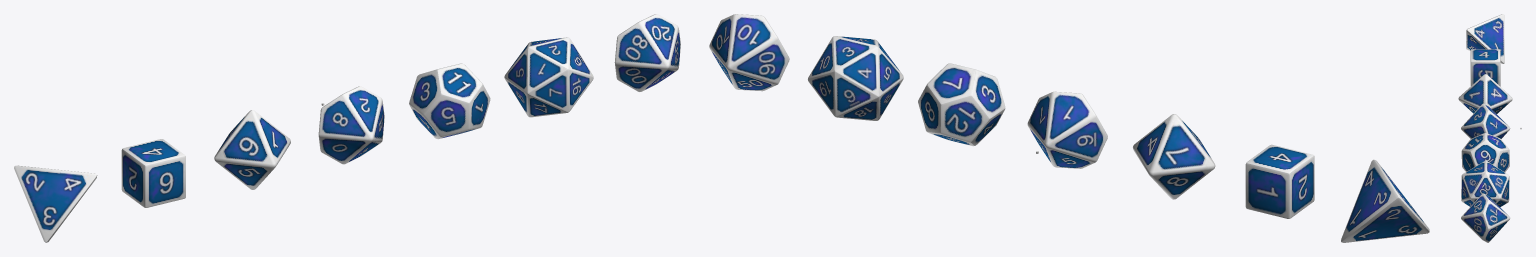
3 renders of one model, left to right at view 1: azimuth 30°, elevation 25°; view 2: azimuth 150°, elevation 25°; view 3: azimuth 270°, elevation 25°, orthographic. The views are drawn at different scales.
Parts seen in each view (by area): view 1: d20_low.001, d12_low.001, d100_low.001, d10_low.001, d6_low.001, d8_low.001, d4_low.001; view 2: d20_low.001, d12_low.001, d10_low.001, d100_low.001, d6_low.001, d8_low.001, d4_low.001; view 3: d20_low.001, d100_low.001, d12_low.001, d8_low.001, d4_low.001, d10_low.001, d6_low.001.
Boxes of the visible parts, box(x1,y1,x2,y2) form: d20_low.001: box(504, 37, 593, 117); d12_low.001: box(409, 63, 490, 139); d100_low.001: box(614, 14, 680, 91); d10_low.001: box(318, 86, 384, 164); d6_low.001: box(121, 139, 185, 207); d8_low.001: box(214, 110, 290, 189); d4_low.001: box(14, 165, 97, 242); d20_low.001: box(808, 36, 903, 120); d12_low.001: box(918, 63, 1005, 146); d10_low.001: box(1027, 91, 1107, 168); d100_low.001: box(709, 14, 789, 91); d6_low.001: box(1245, 144, 1314, 218); d8_low.001: box(1133, 114, 1215, 199); d4_low.001: box(1341, 159, 1429, 242); d20_low.001: box(1461, 161, 1509, 207); d100_low.001: box(1461, 193, 1510, 242); d12_low.001: box(1461, 133, 1509, 172); d8_low.001: box(1458, 74, 1512, 113); d4_low.001: box(1466, 14, 1504, 63); d10_low.001: box(1461, 103, 1510, 138); d6_low.001: box(1470, 49, 1500, 86).
Bounding box in the file's own units: 736 × 85.27 × 99.19.
3 materials, 1 textured.
